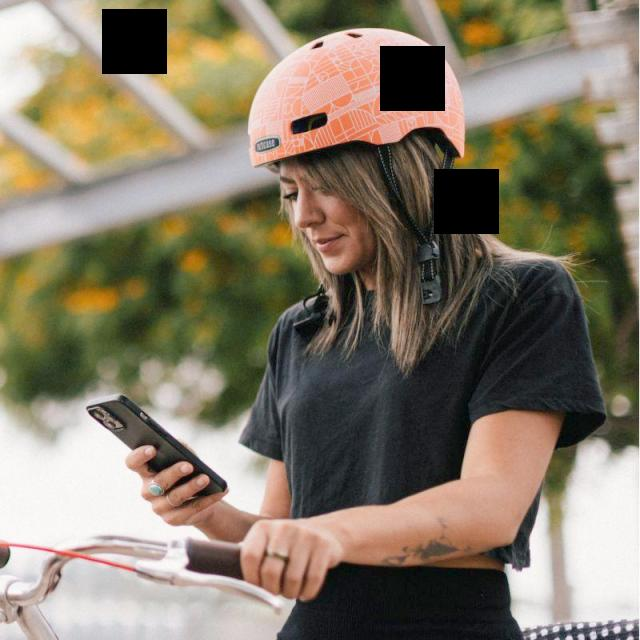Helmet: (247, 28, 470, 276)
